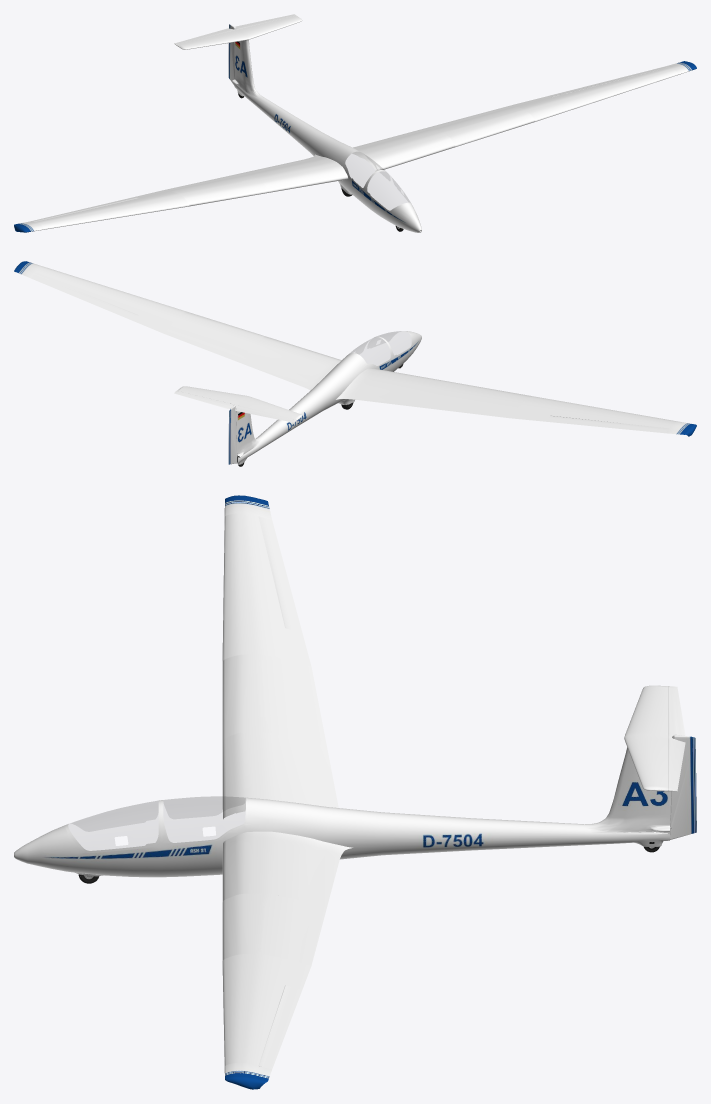
The picture shows the model from 3 angles, top to bottom: view 1: azimuth 30°, elevation 25°; view 2: azimuth 150°, elevation 25°; view 3: azimuth 270°, elevation 25°; orthographic projection. The views are drawn at different scales.
Visible parts, largest first — view 1: Exterior; view 2: Exterior; view 3: Exterior.
Part boxes in pixels (bbox=[...]): Exterior: bbox=[14, 14, 696, 232]; Exterior: bbox=[14, 261, 696, 466]; Exterior: bbox=[14, 495, 696, 1089].
Bounding box in the file's own units: 16.92 × 2.06 × 8.34.
Materials: 4 (3 with a texture image).
